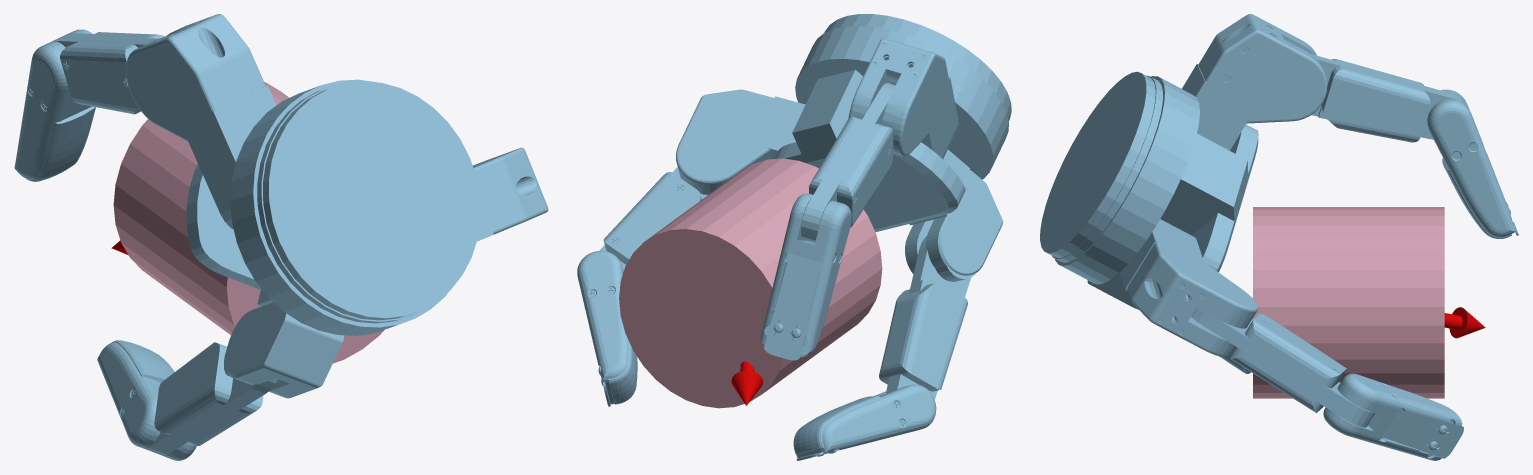
3 views of the same model, side by side, from view 1: azimuth 30°, elevation 25°; view 2: azimuth 150°, elevation 25°; view 3: azimuth 270°, elevation 25° (orthographic). The views are drawn at different scales.
Parts seen in each view (by area): view 1: world, cylinder_medium.stl; view 2: world, cylinder_medium.stl; view 3: world, cylinder_medium.stl.
Part boxes in pixels (x1,y1,x2,y2): world: (14, 14, 548, 460); cylinder_medium.stl: (113, 82, 384, 363); world: (577, 14, 1011, 460); cylinder_medium.stl: (619, 158, 882, 408); world: (1040, 14, 1518, 460); cylinder_medium.stl: (1253, 207, 1444, 398).
Size of the model in its own units: 0.1517 by 0.174 by 0.2.
